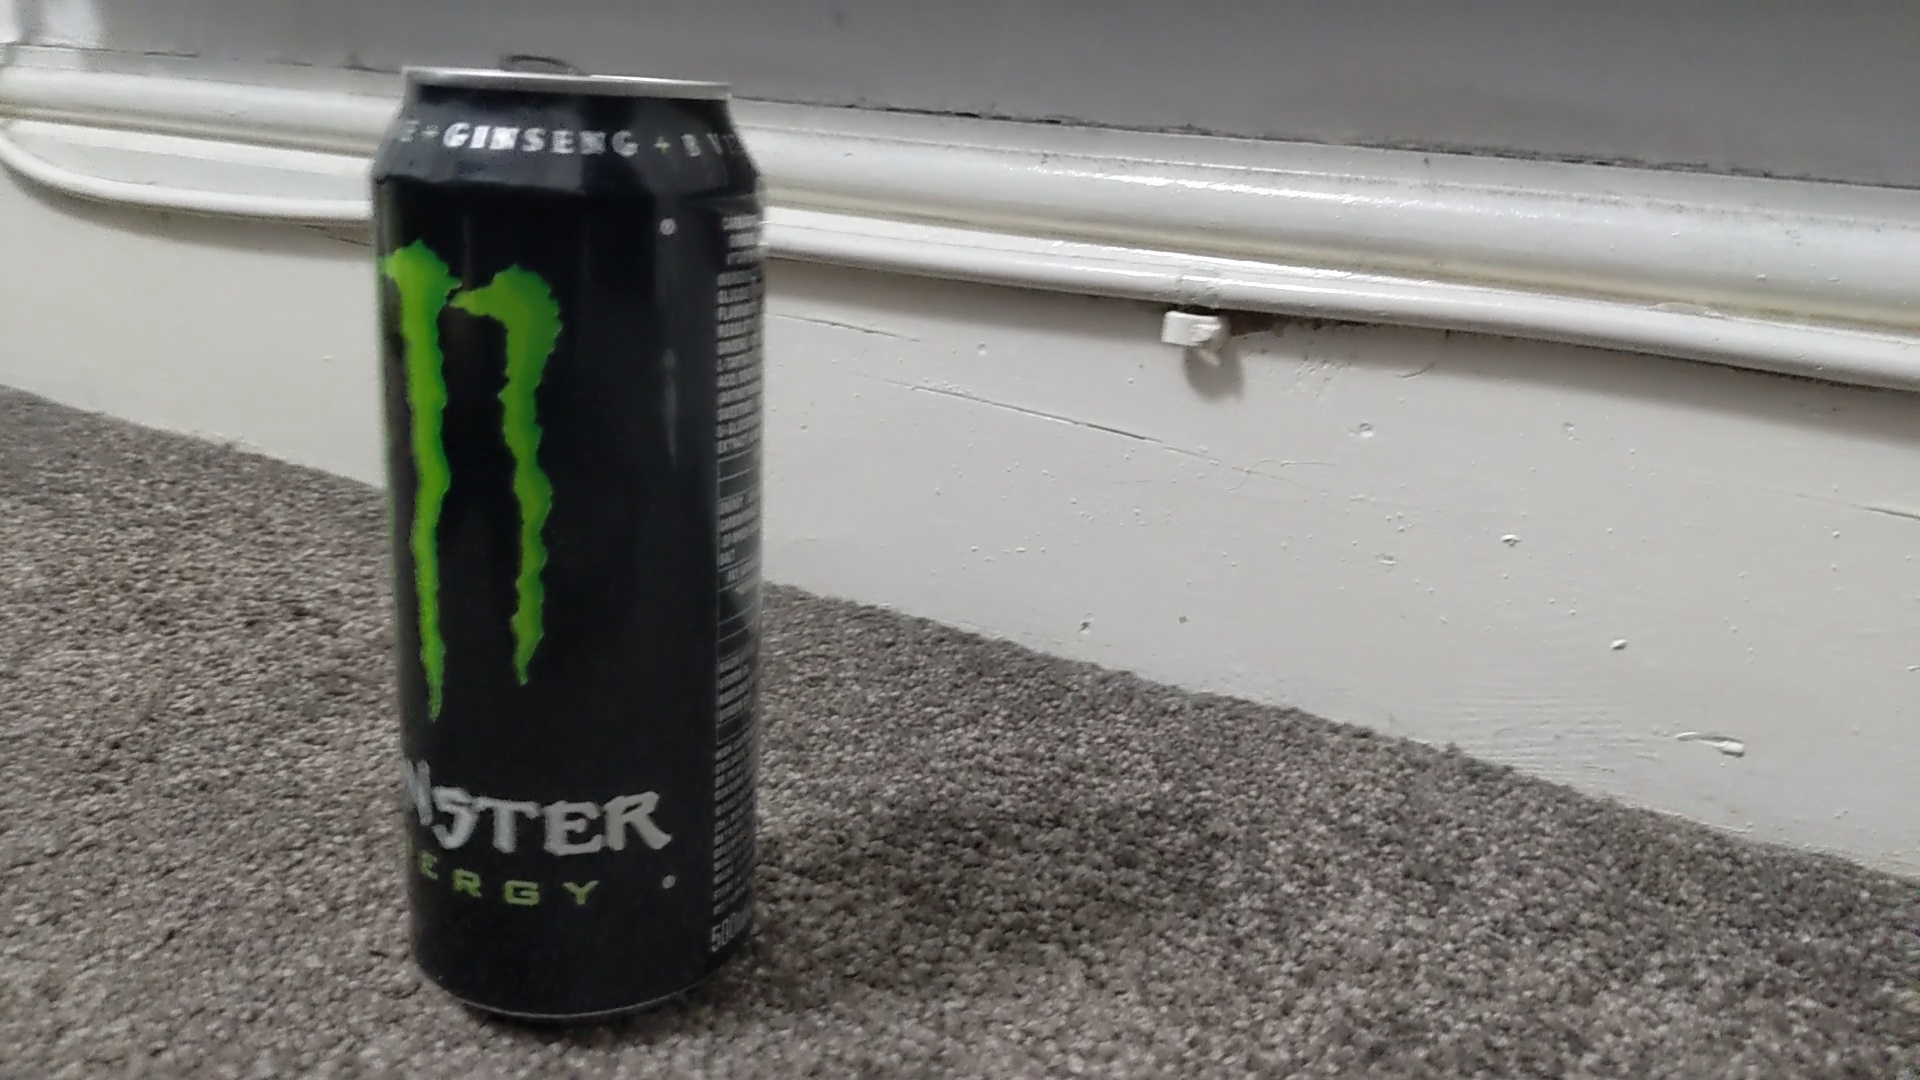monster-original: (368, 66, 766, 1021)
